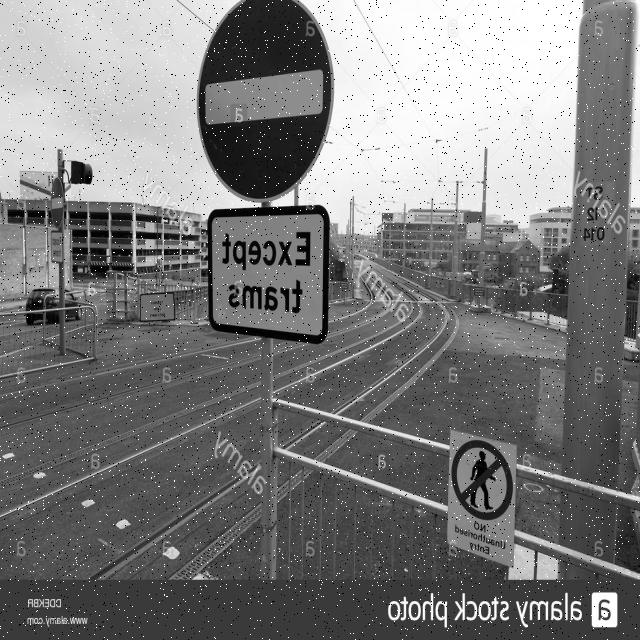no entry: (198, 1, 333, 201)
